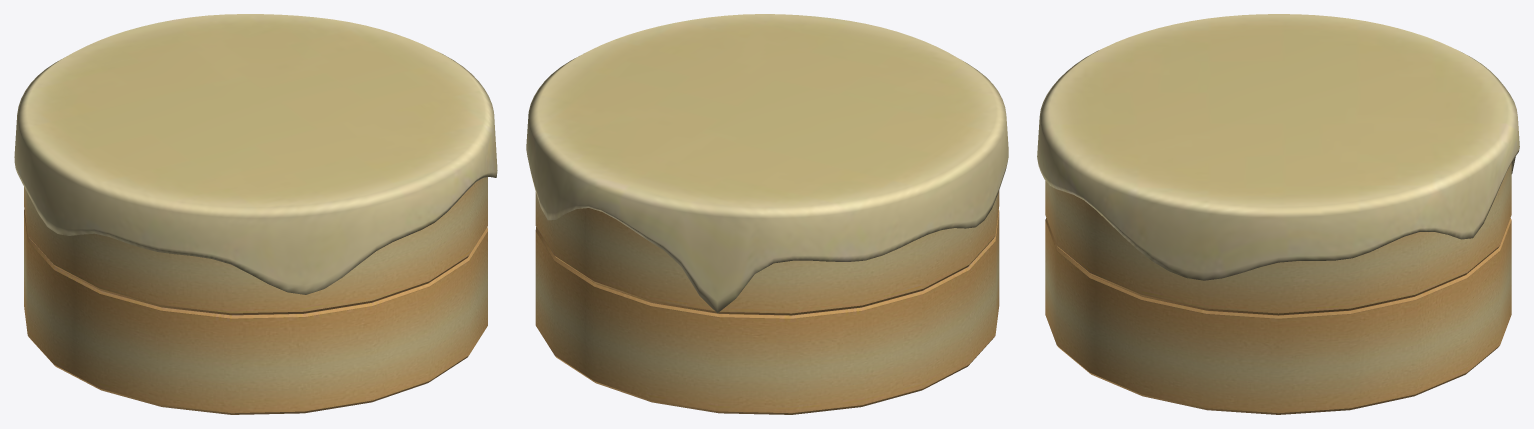
The model's file is creamCake.glb.
3 renders of one model, left to right at view 1: azimuth 30°, elevation 25°; view 2: azimuth 150°, elevation 25°; view 3: azimuth 270°, elevation 25°, orthographic.
Visible parts, largest first — view 1: JamCakeCreamLayer, JamCakeBottomLayer, JamCakeLayer; view 2: JamCakeCreamLayer, JamCakeBottomLayer, JamCakeLayer; view 3: JamCakeCreamLayer, JamCakeBottomLayer, JamCakeLayer.
Part boxes in pixels (left/top/right/bottom): JamCakeCreamLayer: left=14, top=14, right=497, bottom=294; JamCakeBottomLayer: left=24, top=210, right=487, bottom=414; JamCakeLayer: left=24, top=177, right=487, bottom=314; JamCakeCreamLayer: left=526, top=14, right=1008, bottom=313; JamCakeBottomLayer: left=535, top=210, right=999, bottom=414; JamCakeLayer: left=535, top=190, right=999, bottom=315; JamCakeCreamLayer: left=1037, top=14, right=1519, bottom=280; JamCakeBottomLayer: left=1045, top=218, right=1511, bottom=414; JamCakeLayer: left=1045, top=163, right=1511, bottom=315.
Bounding box in the file's own units: 0.2749 × 0.13 × 0.2749.
1 material, 1 textured.
